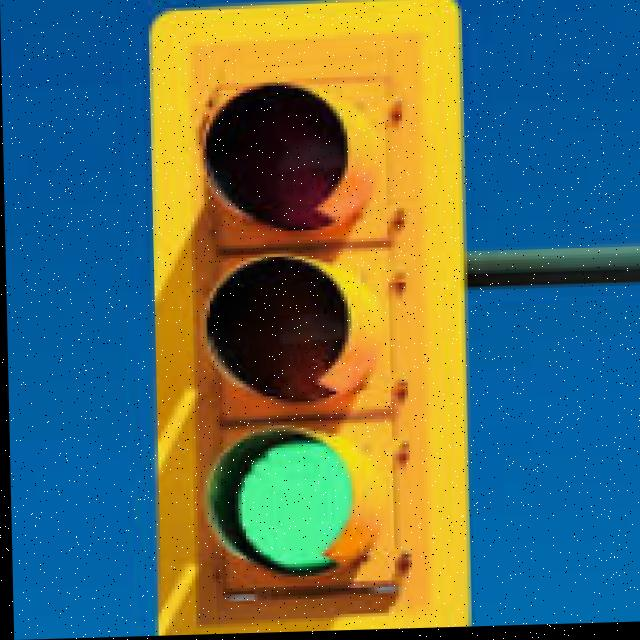light_traffic: (146, 0, 514, 601)
